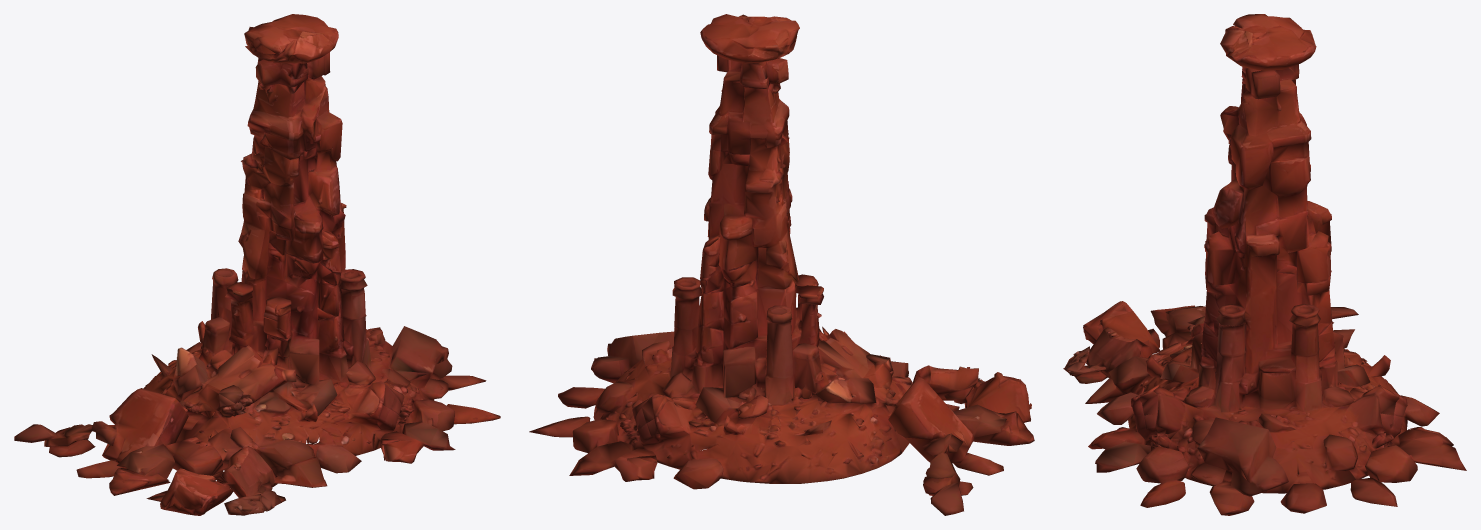
The model's file is env_west_butte.fbx.
3 views of the same model, side by side, from view 1: azimuth 30°, elevation 25°; view 2: azimuth 150°, elevation 25°; view 3: azimuth 270°, elevation 25° (orthographic). The views are drawn at different scales.
Parts seen in each view (by area): view 1: env_west_butte_LOD0; view 2: env_west_butte_LOD0; view 3: env_west_butte_LOD0.
Part boxes in pixels (x1,y1,x2,y2): env_west_butte_LOD0: [14, 14, 500, 515]; env_west_butte_LOD0: [529, 14, 1034, 515]; env_west_butte_LOD0: [1063, 14, 1466, 515].
Size of what is drawn, in the model's own units: 0.9845 by 0.8803 by 0.7991.
